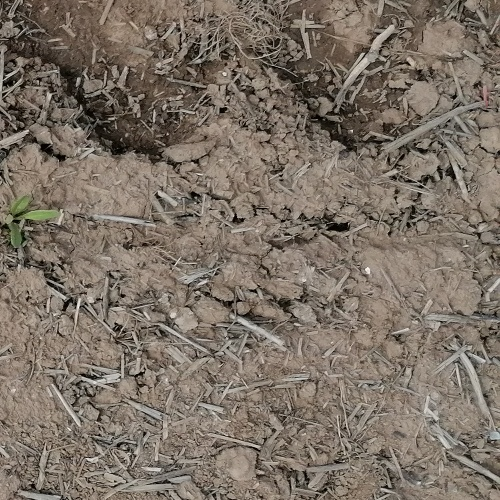beet: (3, 193, 59, 247)
